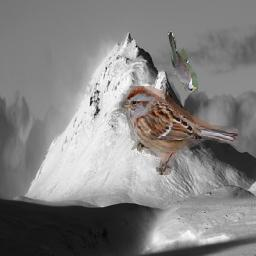Cuckoo: (168, 30, 199, 92)
Sparrow: (120, 87, 239, 176)
